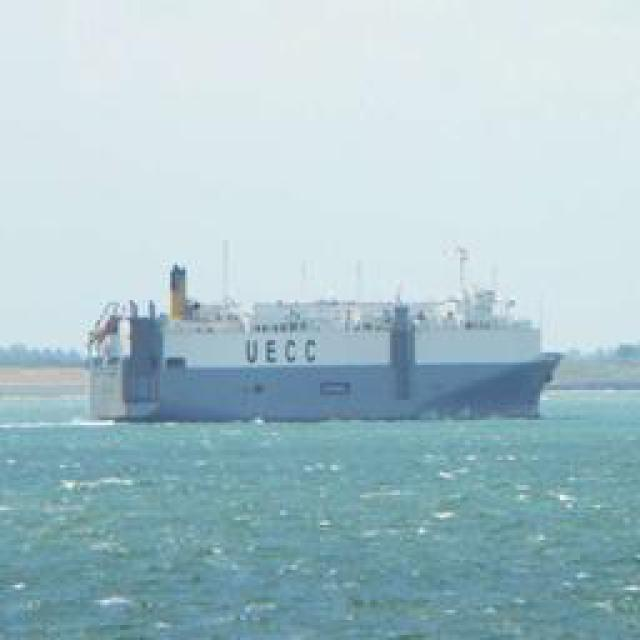Ship: (76, 270, 561, 425)
